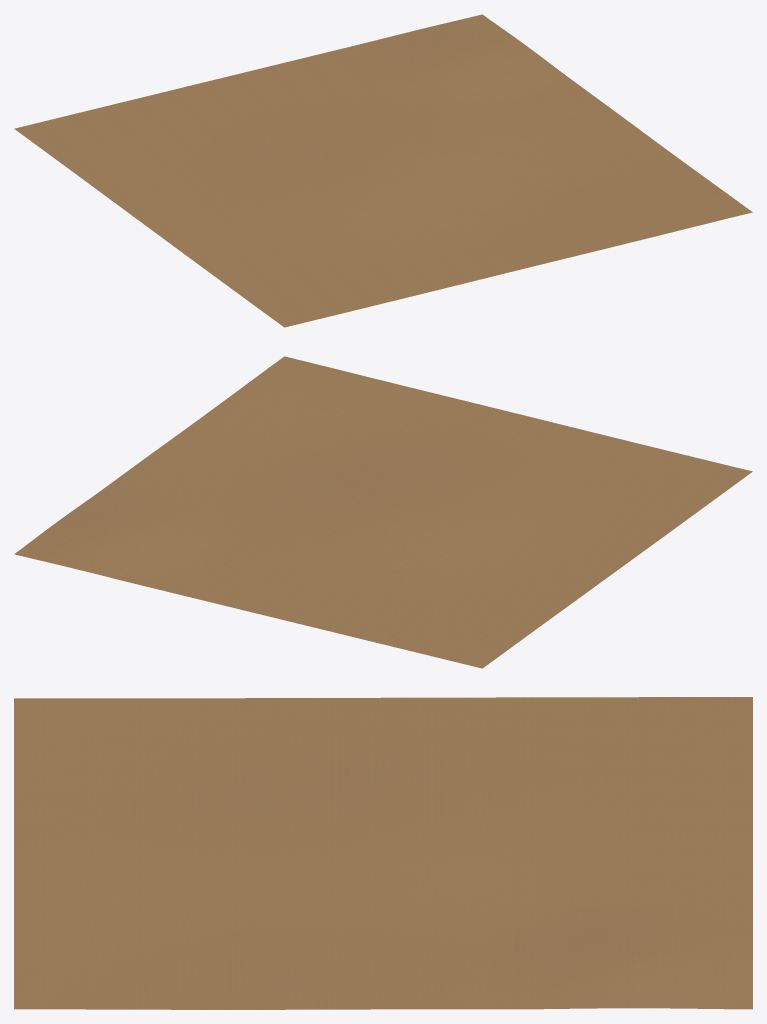
The model's file is floor.glb.
3 renders of one model, top to bottom at view 1: azimuth 30°, elevation 25°; view 2: azimuth 150°, elevation 25°; view 3: azimuth 270°, elevation 25°, orthographic. The views are drawn at different scales.
Parts seen in each view (by area): view 1: Floor; view 2: Floor; view 3: Floor.
Part boxes in pixels (x1,y1,x2,y2): Floor: [14, 14, 752, 327]; Floor: [14, 356, 752, 668]; Floor: [14, 697, 752, 1009].
Size of the model in its own units: 200 by 1.81 by 200.
1 material, 1 textured.
